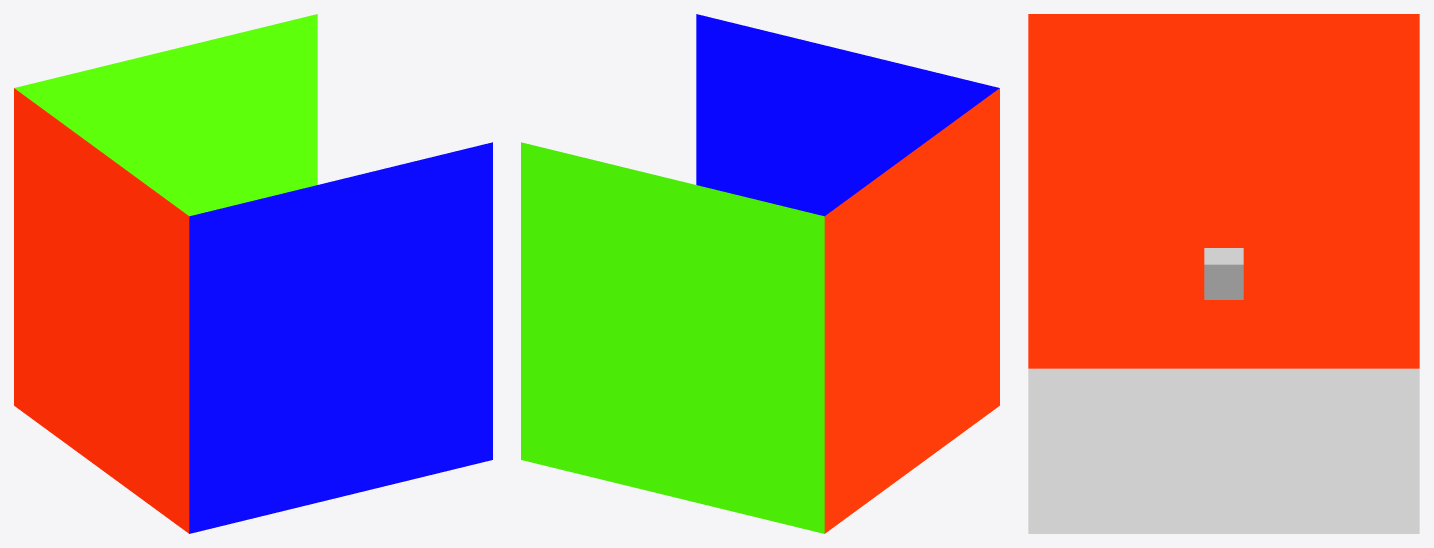
3 views of the same model, side by side, from view 1: azimuth 30°, elevation 25°; view 2: azimuth 150°, elevation 25°; view 3: azimuth 270°, elevation 25° (orthographic). The views are drawn at different scales.
Parts seen in each view (by area): view 1: Plane.001, Plane, Plane.002; view 2: Plane.002, Plane, Plane.001; view 3: Plane, Plane.003, Cube.
Boxes of the visible parts, x1,y1,x2,y2 form: Plane.001: (189, 142, 492, 533); Plane: (14, 88, 189, 533); Plane.002: (14, 14, 317, 216); Plane.002: (521, 142, 824, 533); Plane: (824, 88, 999, 533); Plane.001: (696, 14, 999, 216); Plane: (1028, 14, 1419, 368); Plane.003: (1028, 368, 1419, 533); Cube: (1204, 248, 1243, 299).
Size of the model in its own units: 20 by 20 by 20.
